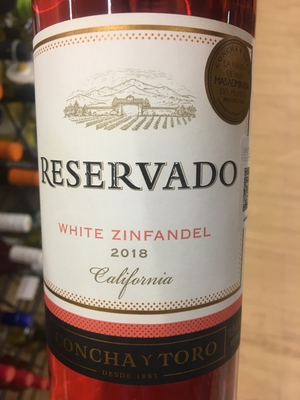reservado white zinfandel: (34, 9, 253, 400)
